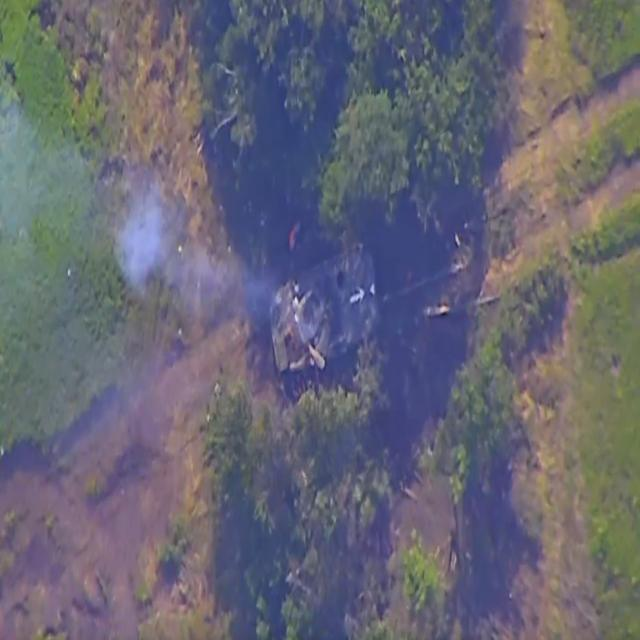AIFV: (268, 239, 385, 390)
